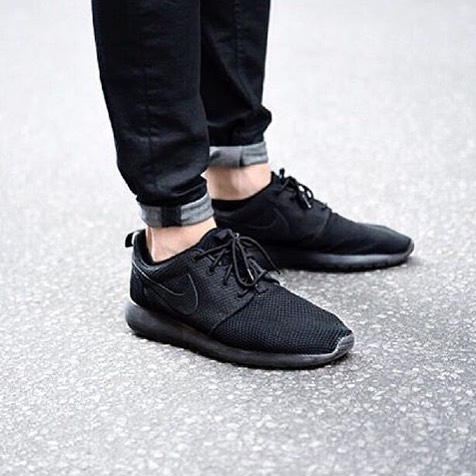sneaker: (114, 187, 366, 382), (191, 140, 427, 278)
